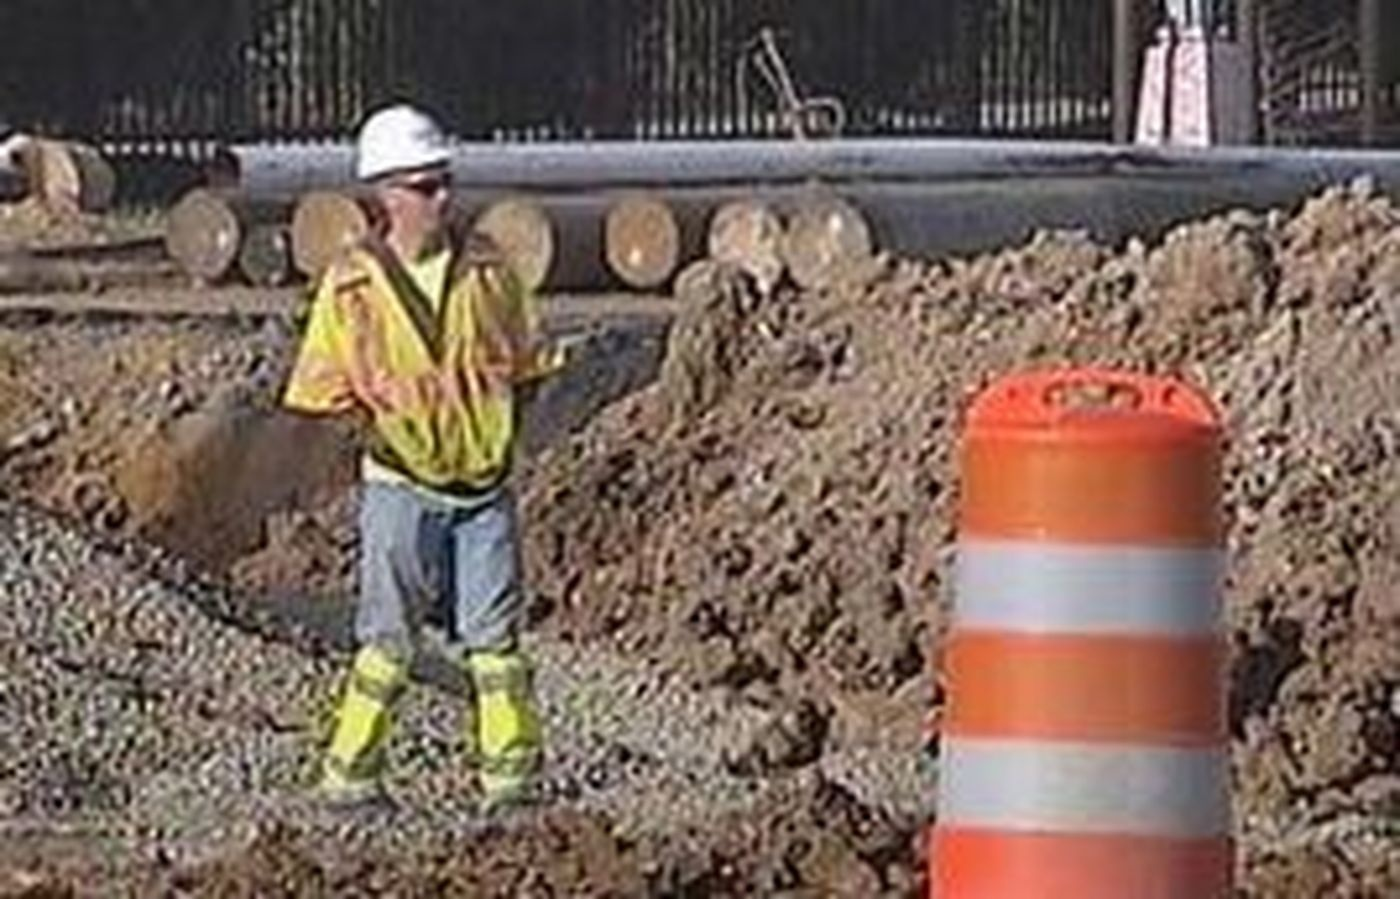white: (350, 100, 461, 230)
